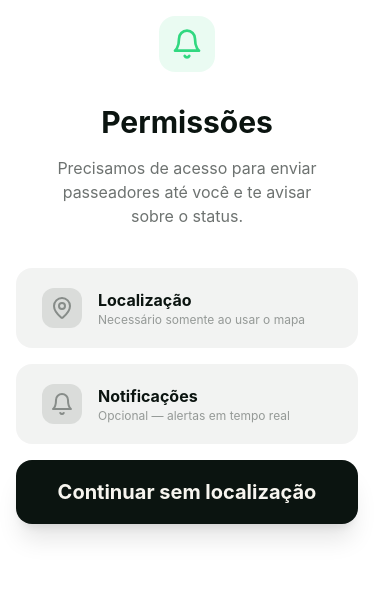
PermissionsStep — localização opcional › timeout/erro → usuário consegue avançar
The image size is (375, 614).
Later steps or results of the test are not shown.
Click the button with test id "location-card". click: (187, 308)
box: 16,268 -> 358,348
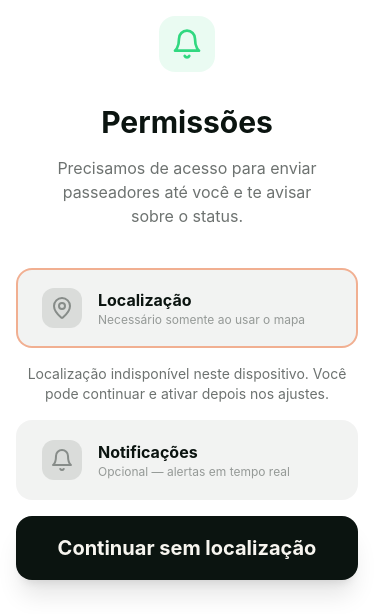
Expected: the button with test id "continue-permissions" reads "Continuar sem localização", 16,516 -> 358,580
Now the message with test id "location-message" shows "Localização indisponível neste dispositivo. Você pode continuar e ativar depois nos ajustes.", box 28,365 -> 346,402
